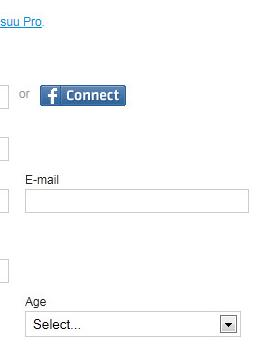button: (39, 85, 126, 107)
checkbox_with_label: (22, 295, 242, 340)
field: (24, 311, 240, 338), (22, 188, 248, 213)
field_with_label: (21, 174, 250, 215)
